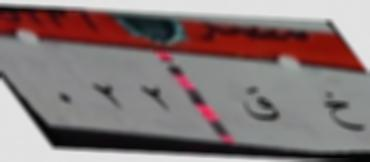0: (56, 86, 80, 109)
2: (138, 78, 176, 114), (90, 76, 126, 112)
khaa: (320, 84, 367, 140)
qaaf: (238, 80, 284, 131)
